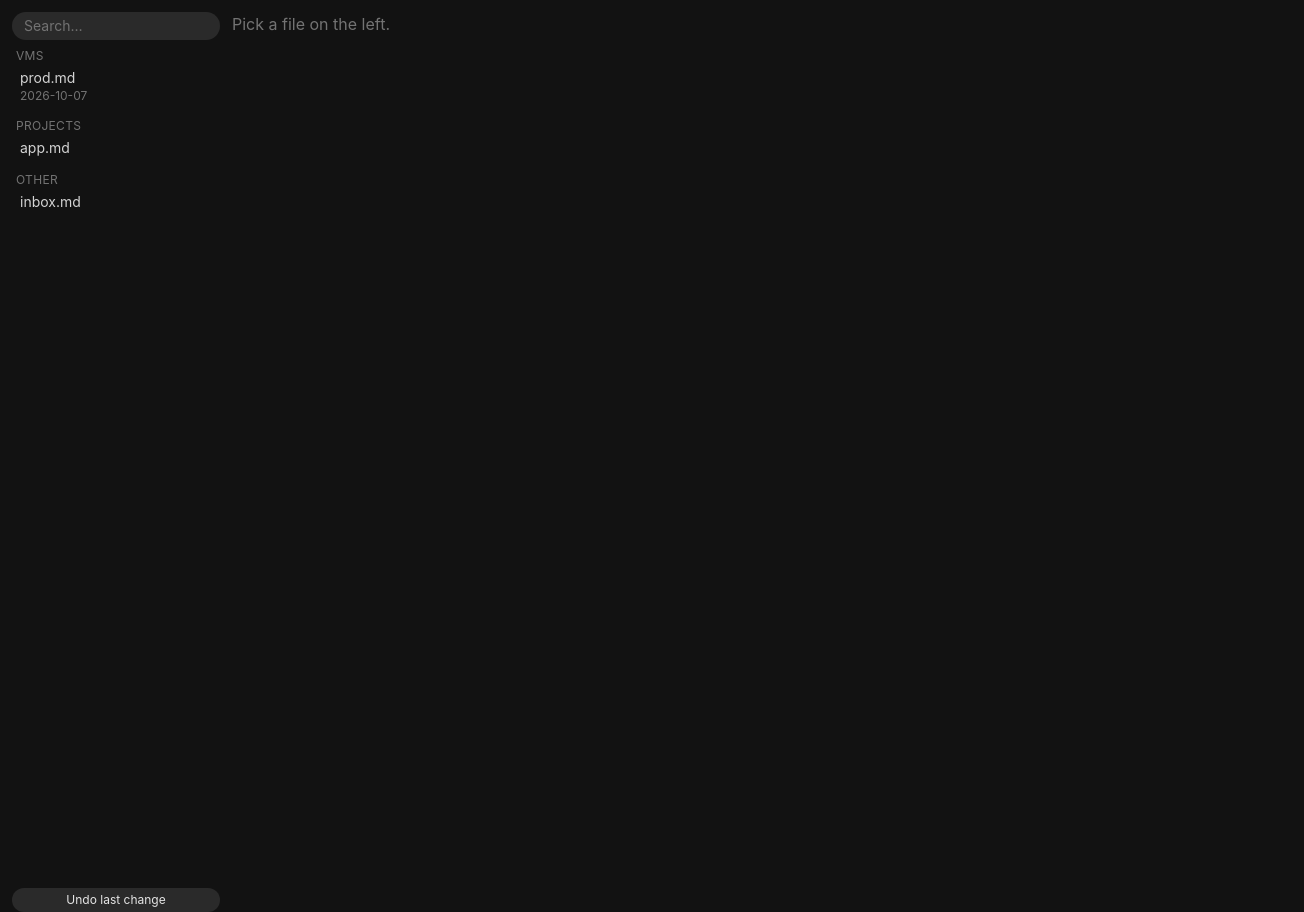
Test: Browse › shows the selected file rendered
Expected: the text "Pick a file on the left." is shown, [232,14,390,34]
Click the button "prod.md 2026-10-07": click(114, 86) [12,64,216,108]
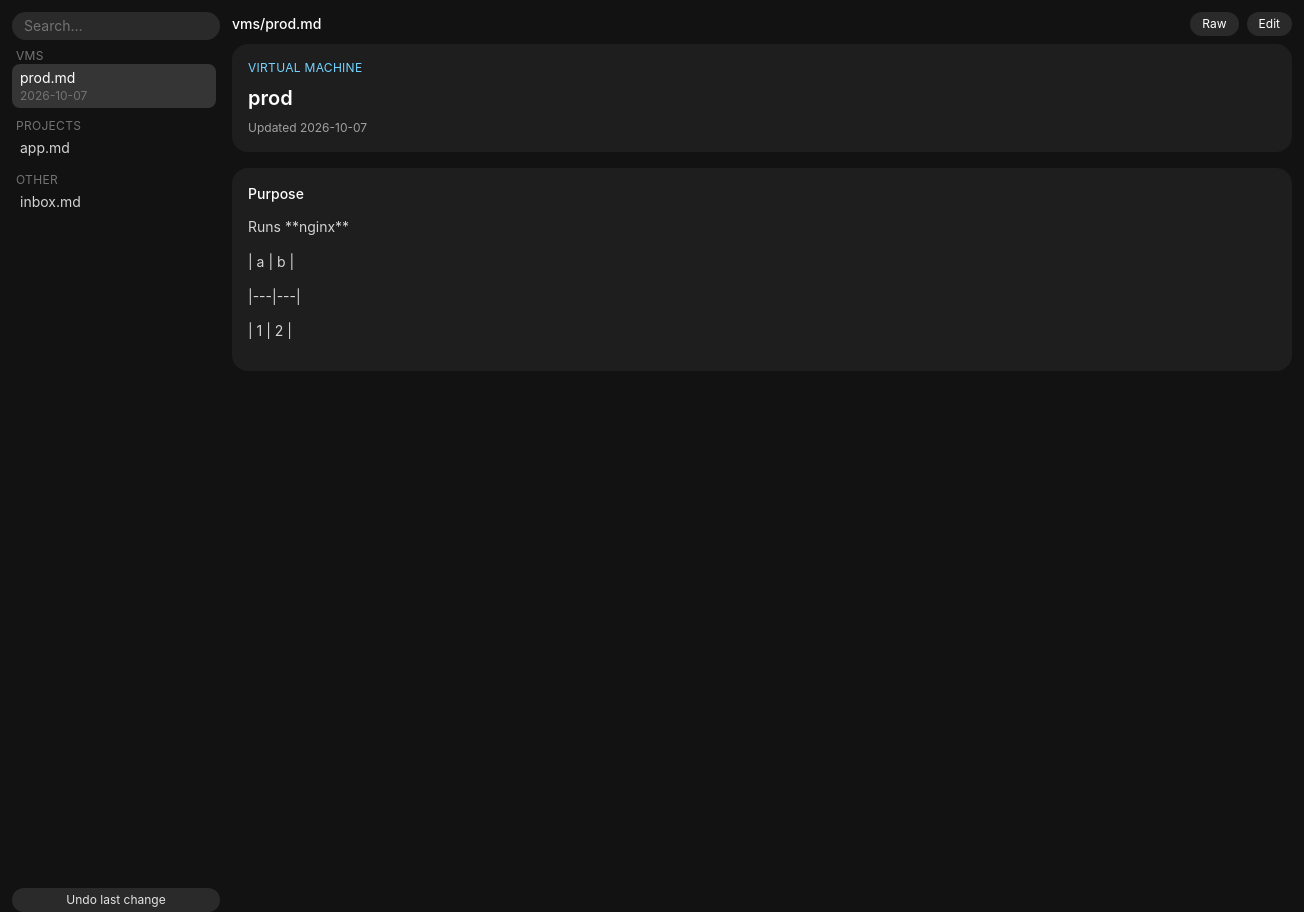
Now the heading "Purpose" is shown, box [248,185,304,202]
